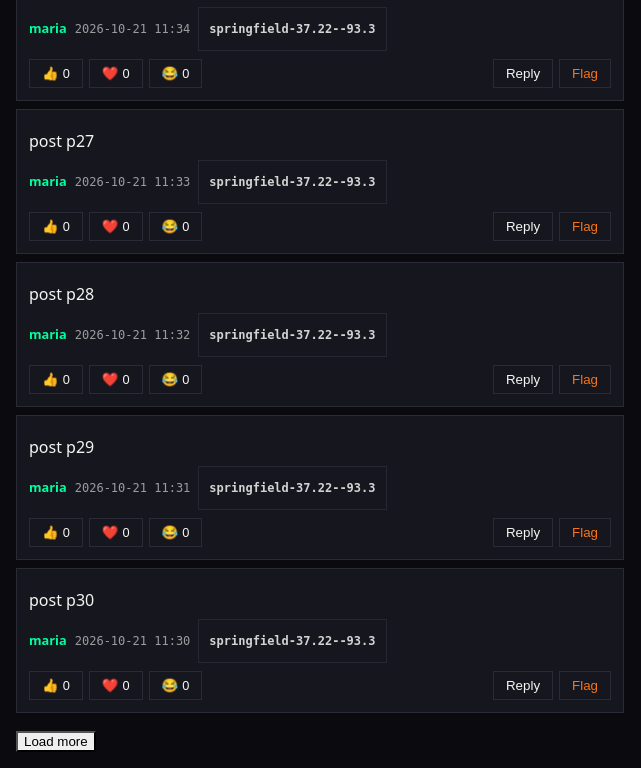
Test case: W4-C2 infinite scroll › append tiles to end marker: page 2 short -> sentinel replaced by marker
(page scrolled)
Click the button with test id "feed-load-more" at (56, 742), box [16,731,96,752]
(page scrolled)
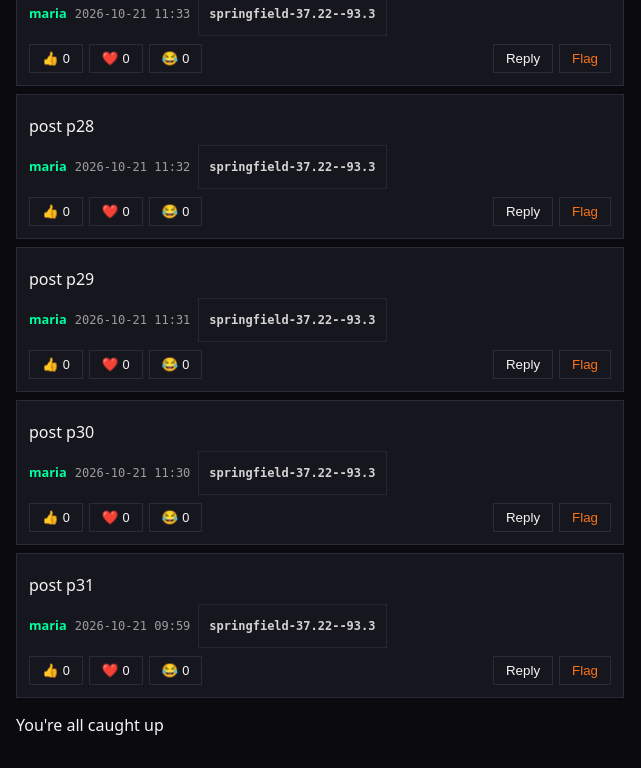
Expected: the element with test id "post-p31" is shown, [16,553,624,698]
Expected: the text "You're all caught up" is shown, [16,714,164,736]
